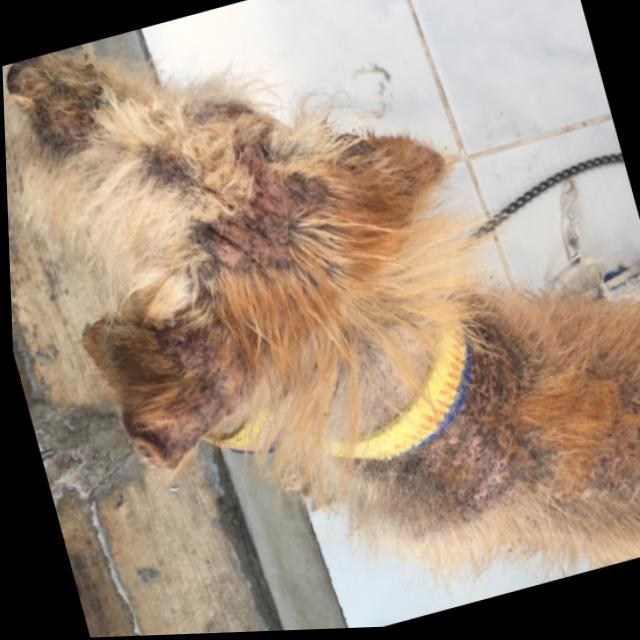demodicosis: (411, 357, 549, 530), (129, 326, 255, 453), (194, 151, 313, 282), (569, 414, 640, 540)
